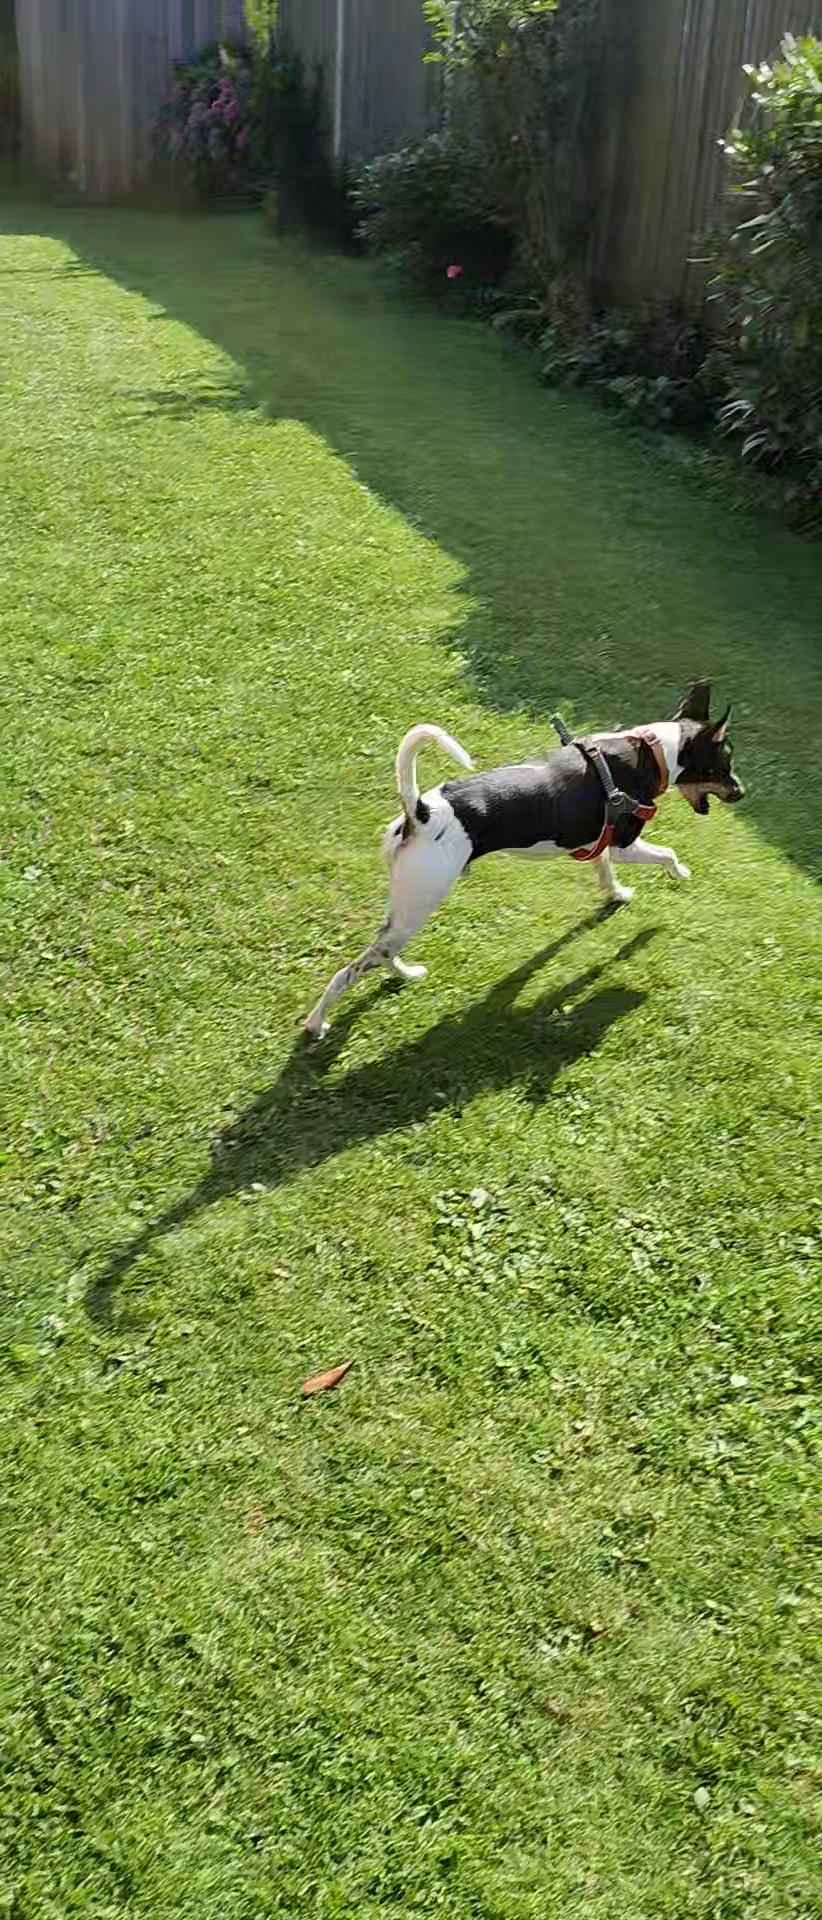Dog: (289, 662, 750, 1051)
